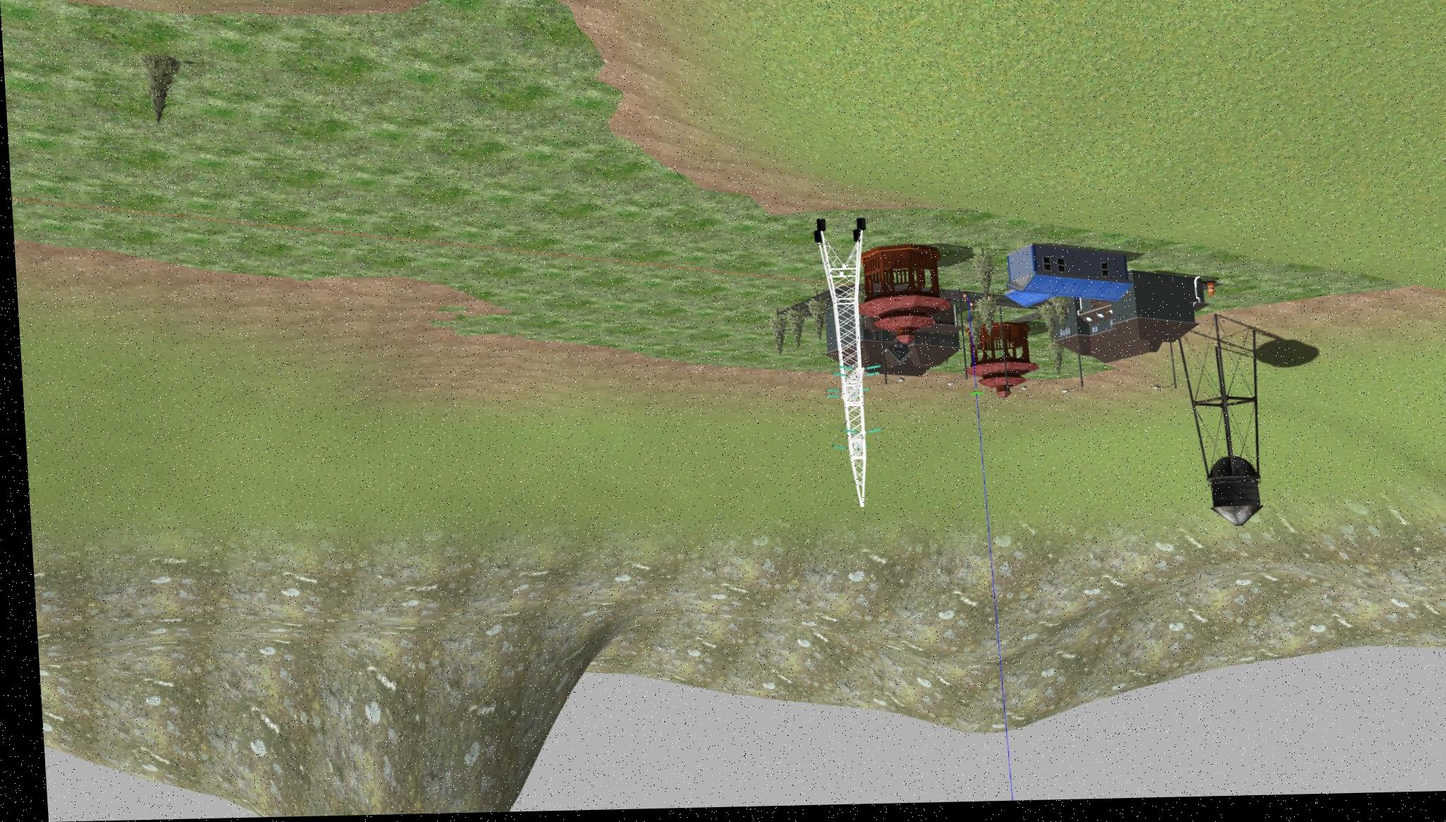tower: (816, 237, 881, 509)
